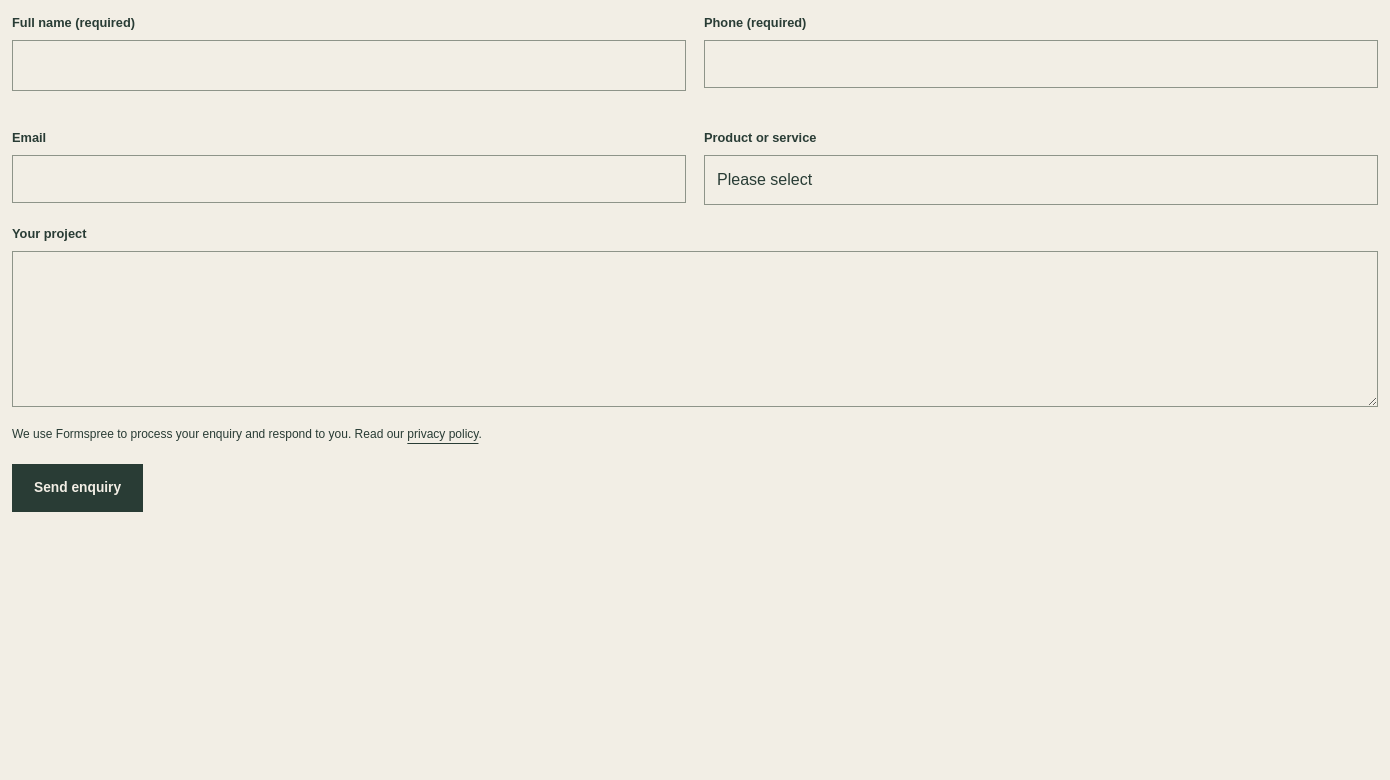
failed delivery retains the enquiry and provides a usable phone fallback
This screenshot has width=1390, height=780.
Type "Test Person" into the field labelled "Full name (required)".
click(349, 65); type("Test Person")  # box x1=12 y1=40 x2=686 y2=90
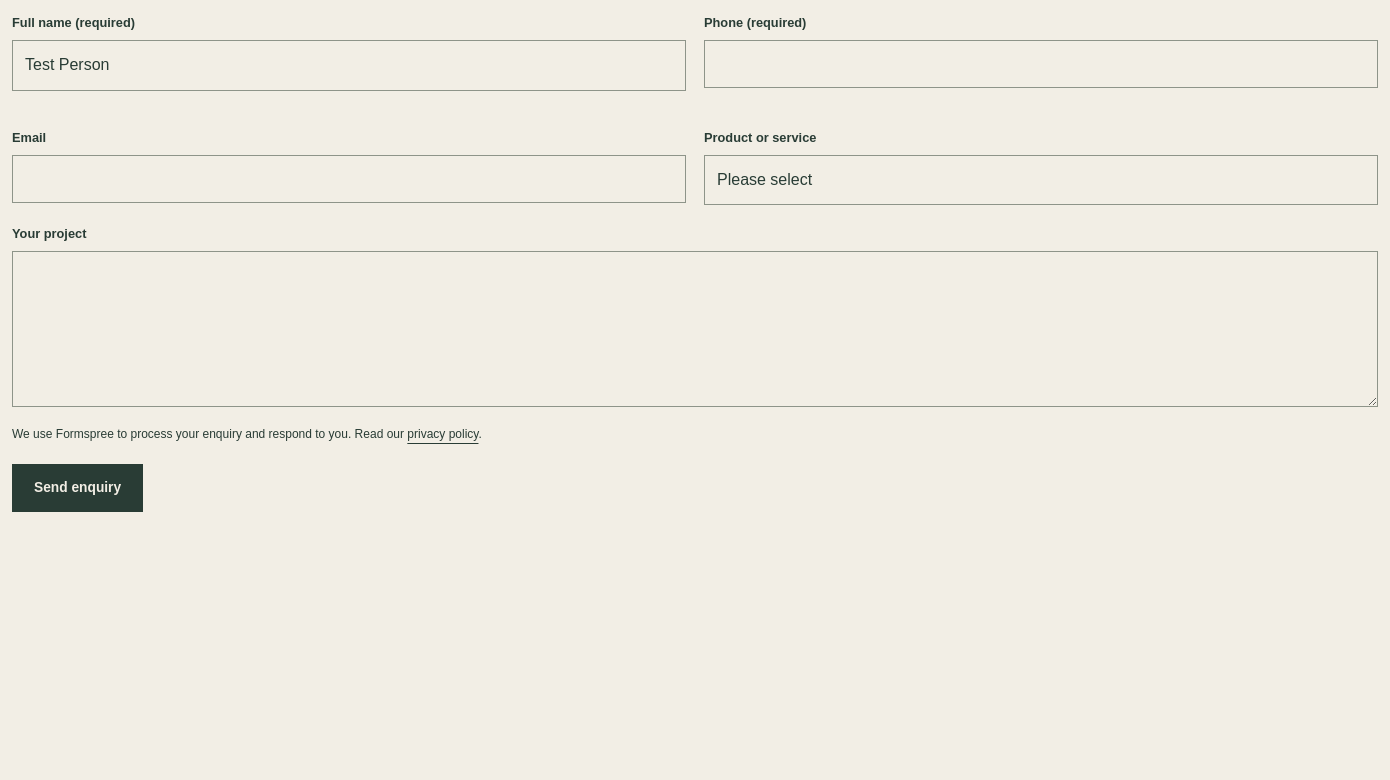
Type "1234567890" into the field labelled "Phone (required)".
click(1041, 64); type("1234567890")  # box x1=704 y1=40 x2=1378 y2=88
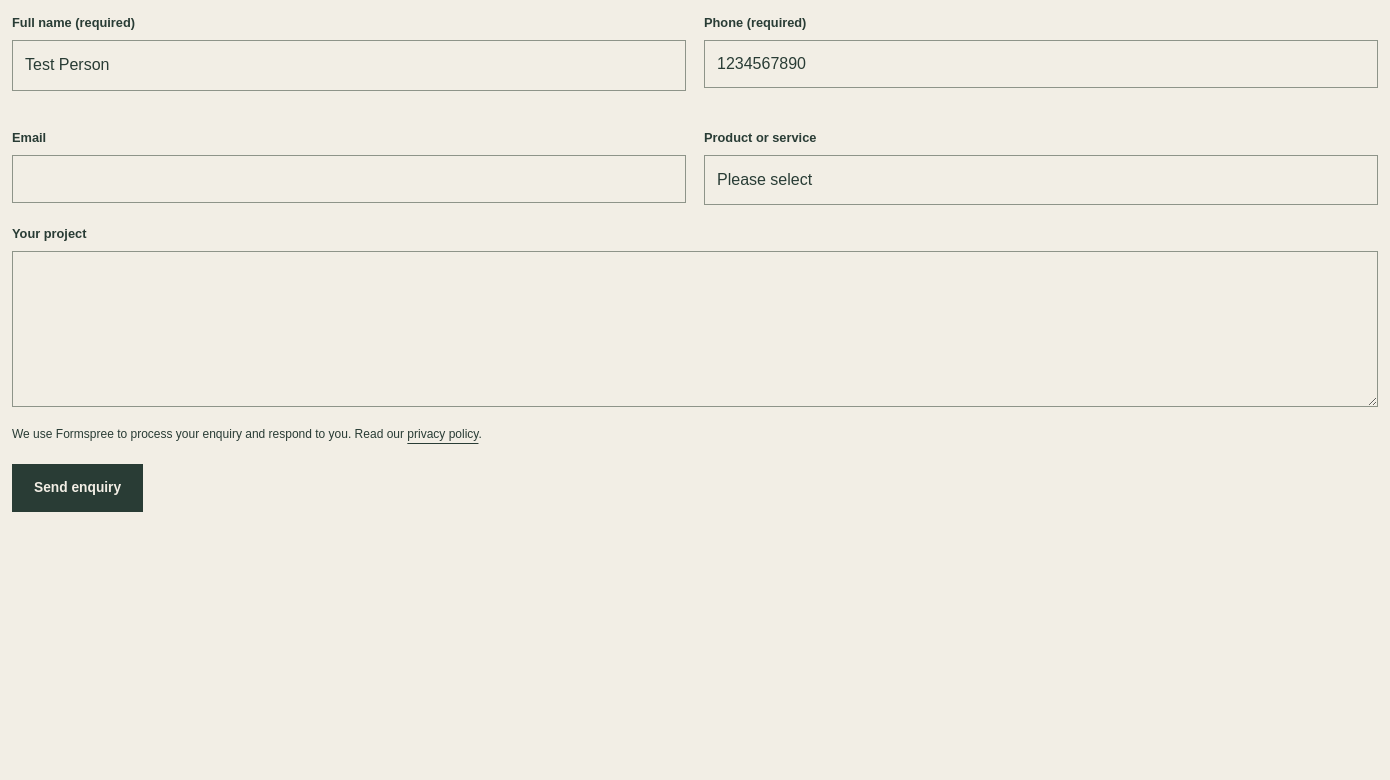
Click the button "Send enquiry".
click(78, 488)  # box x1=12 y1=464 x2=143 y2=512
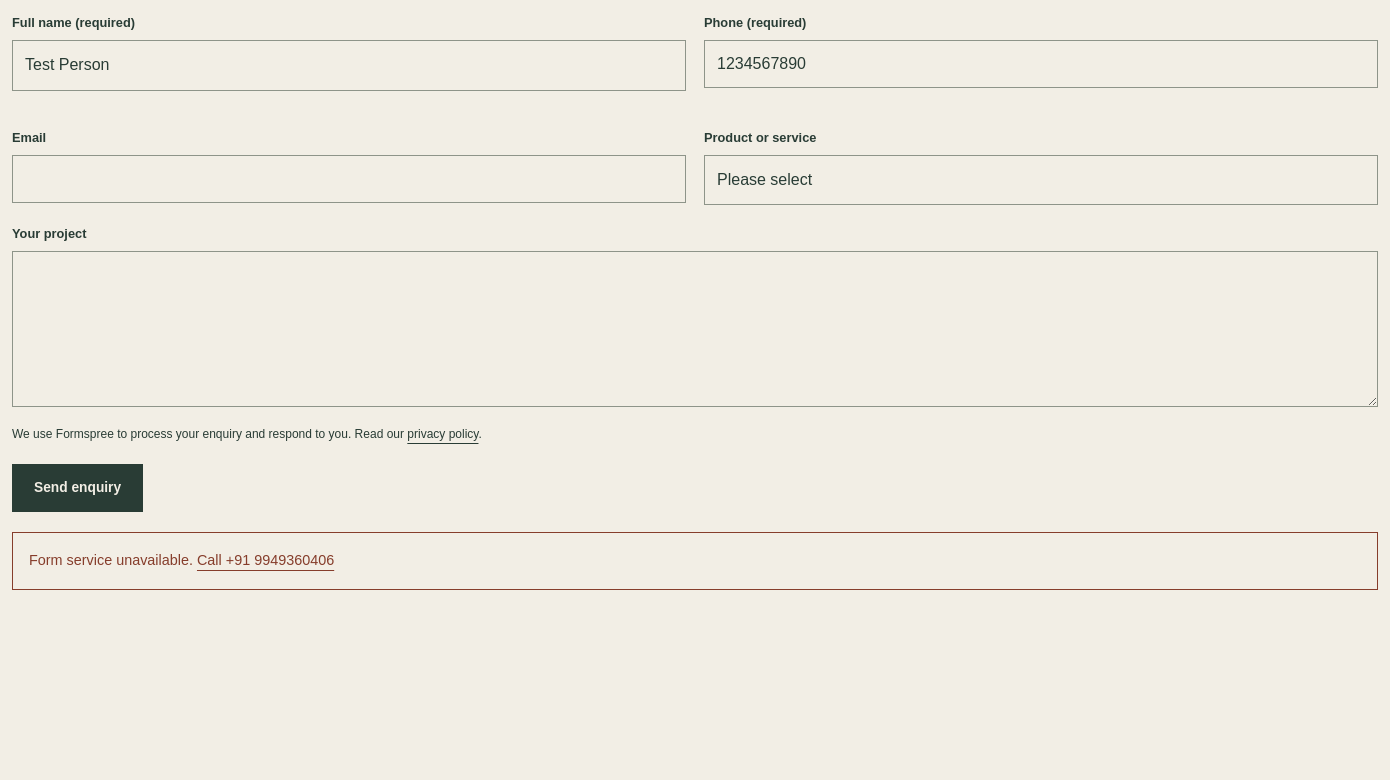
Check: the message shows "Form service unavailable.", box x1=29 y1=552 x2=193 y2=568
